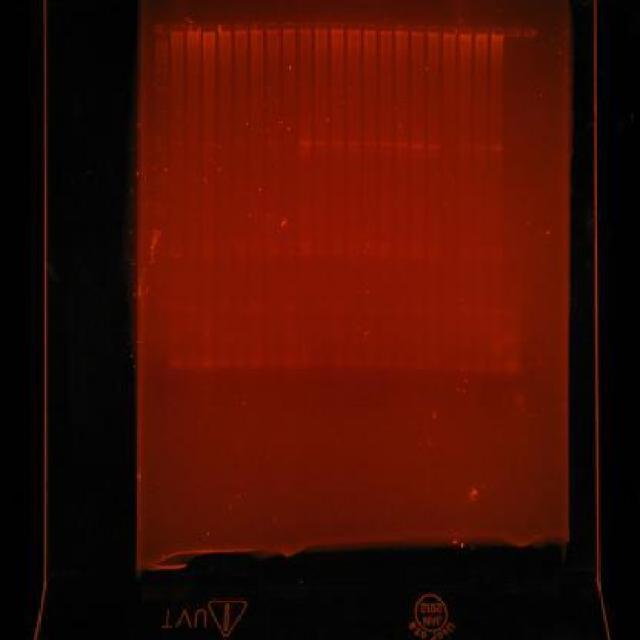B: (502, 332, 520, 348), (504, 358, 520, 376), (344, 356, 362, 372), (249, 356, 265, 372), (264, 356, 280, 372), (361, 356, 377, 372), (378, 357, 393, 372), (488, 359, 504, 373), (184, 356, 198, 372), (198, 357, 214, 371), (441, 360, 457, 374), (280, 356, 297, 369), (264, 238, 282, 250), (298, 356, 314, 369), (170, 302, 184, 316), (474, 360, 488, 374), (234, 358, 248, 372), (330, 356, 344, 370), (314, 356, 328, 370), (410, 358, 424, 372), (458, 361, 473, 374), (394, 359, 409, 372), (265, 250, 281, 262), (249, 300, 265, 312), (218, 301, 232, 314), (186, 302, 200, 315), (217, 358, 232, 370), (170, 356, 182, 370), (426, 360, 440, 372), (330, 238, 346, 248), (378, 242, 394, 252), (378, 252, 394, 262), (201, 242, 216, 252), (411, 252, 426, 262), (363, 241, 379, 250), (363, 251, 379, 260), (202, 252, 216, 262), (490, 252, 504, 262), (489, 306, 503, 316), (297, 240, 314, 248), (411, 243, 426, 252), (331, 302, 344, 312), (410, 142, 426, 150), (394, 140, 410, 148), (378, 140, 394, 148), (298, 140, 314, 148), (298, 250, 314, 258), (330, 250, 346, 258), (234, 251, 248, 260), (490, 244, 504, 253), (474, 307, 488, 316), (489, 144, 503, 152), (474, 143, 488, 151), (458, 143, 472, 151), (426, 142, 440, 150), (363, 139, 377, 147), (347, 139, 361, 147), (314, 139, 328, 147), (233, 242, 247, 250), (458, 245, 472, 253), (458, 254, 472, 262), (233, 302, 247, 310), (280, 302, 294, 310), (426, 244, 439, 252), (428, 252, 438, 262), (234, 140, 249, 146), (330, 140, 344, 146), (298, 152, 312, 158), (266, 138, 280, 144), (170, 140, 184, 146), (200, 140, 214, 146)
L: (149, 14, 540, 44)
M: (152, 48, 170, 370)
P: (153, 206, 169, 219), (153, 274, 169, 286), (153, 116, 169, 124), (154, 177, 168, 186), (154, 145, 168, 153), (154, 138, 168, 146), (154, 68, 168, 74), (154, 58, 168, 64), (154, 84, 168, 90), (154, 52, 168, 56)
Pc: (312, 20, 330, 34), (184, 22, 201, 36), (153, 22, 169, 36), (248, 20, 264, 34), (264, 20, 280, 34), (441, 24, 457, 38), (410, 23, 426, 37), (362, 22, 378, 36), (346, 20, 362, 34), (201, 22, 216, 36), (217, 22, 232, 36), (474, 26, 489, 40), (458, 26, 473, 40), (280, 21, 296, 34), (506, 25, 522, 38), (330, 21, 346, 34), (296, 21, 312, 34), (379, 22, 393, 36), (394, 22, 409, 35), (234, 22, 248, 35), (427, 25, 441, 38), (490, 27, 506, 38), (521, 28, 537, 38), (170, 23, 184, 34)
